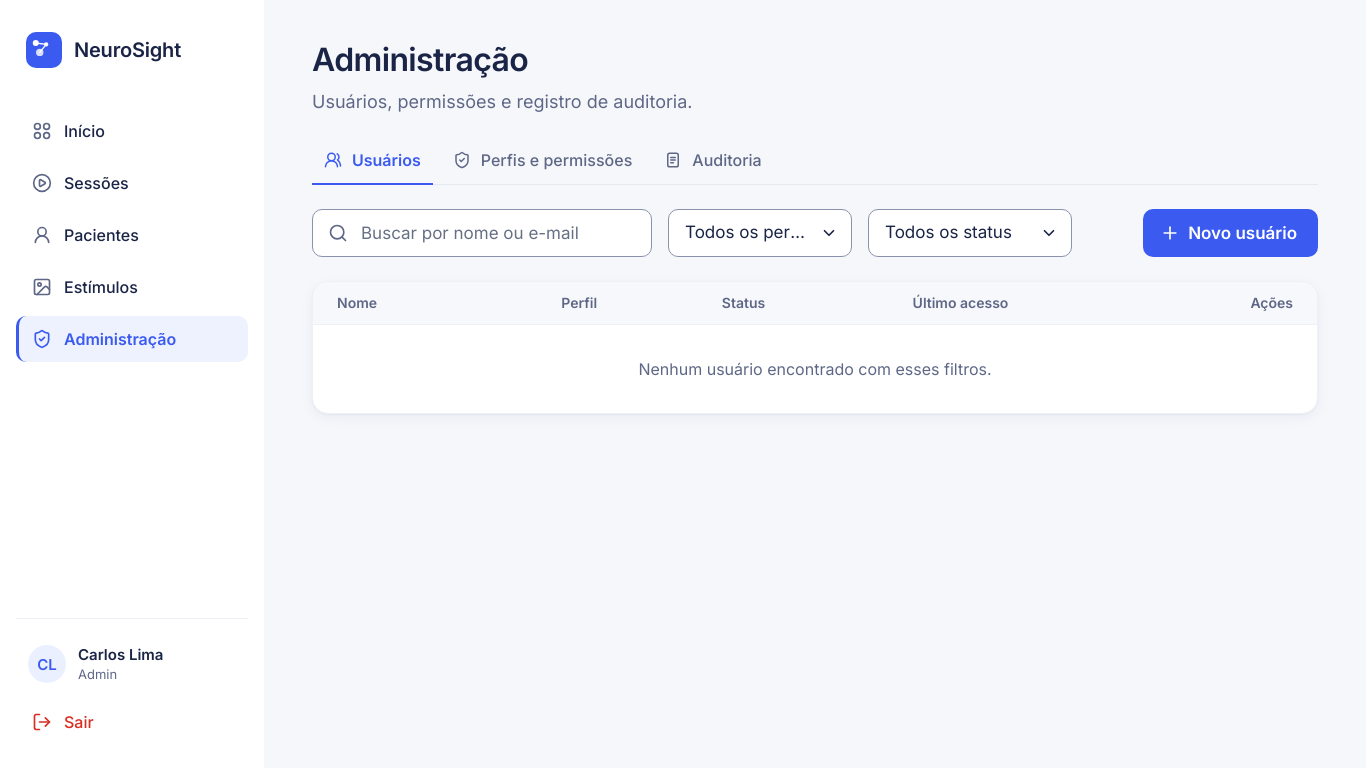
Test: menu e permissões › trocar de aba na Administração mantém o cabeçalho e as abas
Click the link "Auditoria". click: (713, 160)
box: [664,150,762,170]
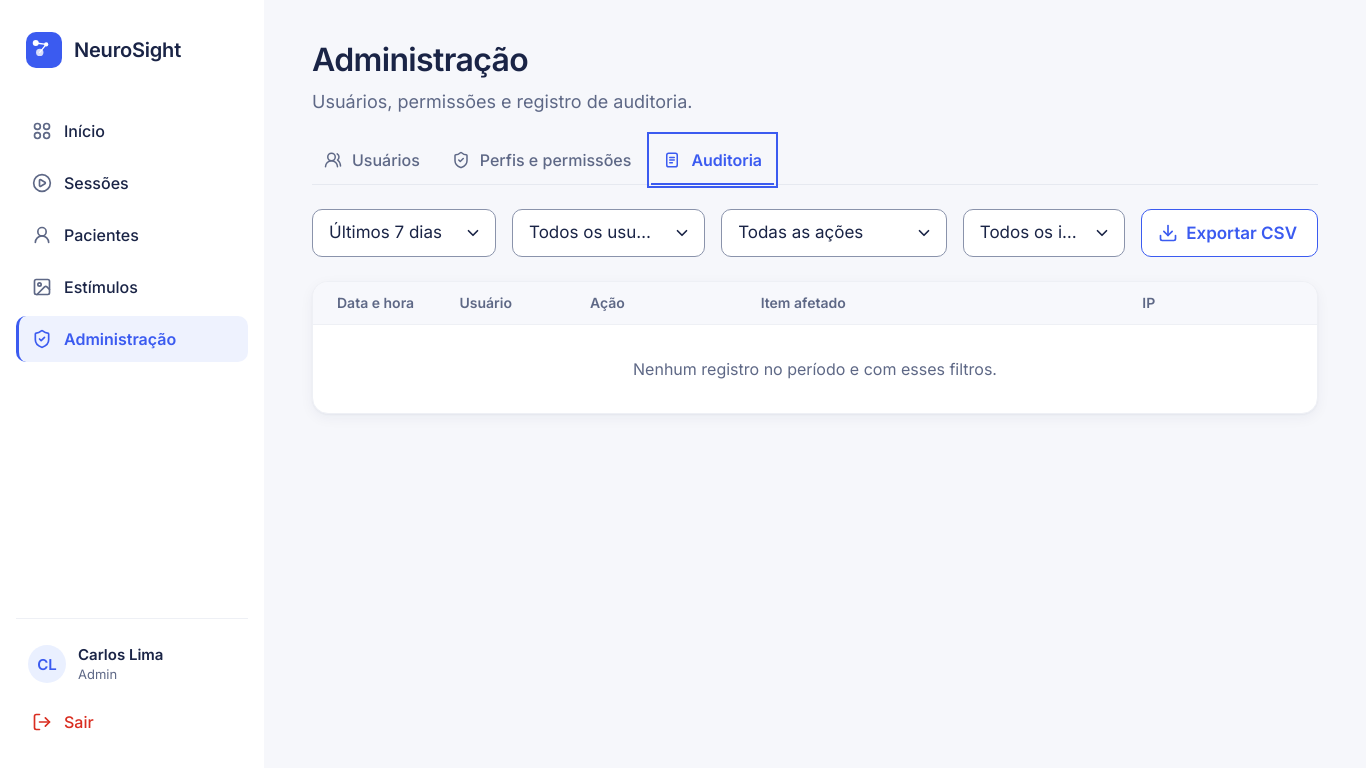
Expected: the heading "Administração" is shown, [312,40,528,80]
Now the 3rd dropdown named "Ação" is shown, box [721,209,947,257]
